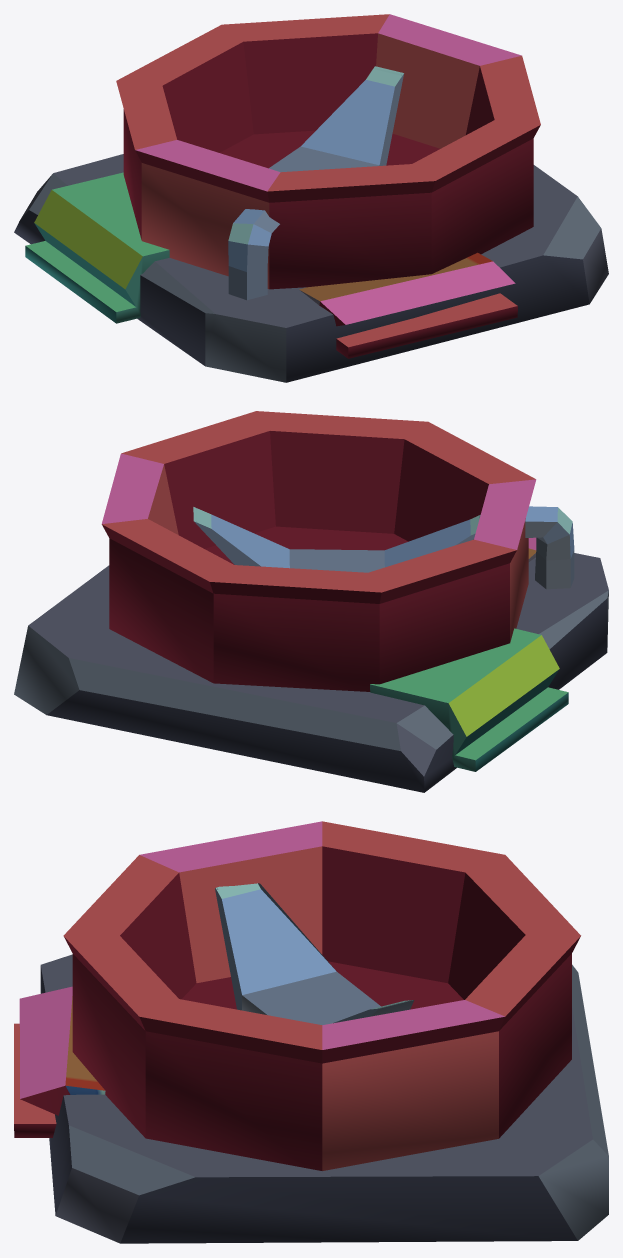
Rendered from blender_UV.fbx.
3 renders of one model, top to bottom at view 1: azimuth 30°, elevation 25°; view 2: azimuth 150°, elevation 25°; view 3: azimuth 270°, elevation 25°, orthographic. The views are drawn at different scales.
Parts seen in each view (by area): view 1: blender; view 2: blender; view 3: blender.
Part boxes in pixels (x1,y1,x2,y2): blender: (14, 14, 608, 382); blender: (14, 411, 608, 792); blender: (14, 821, 608, 1243).
Size of the model in its own units: 194 by 69.29 by 194.
